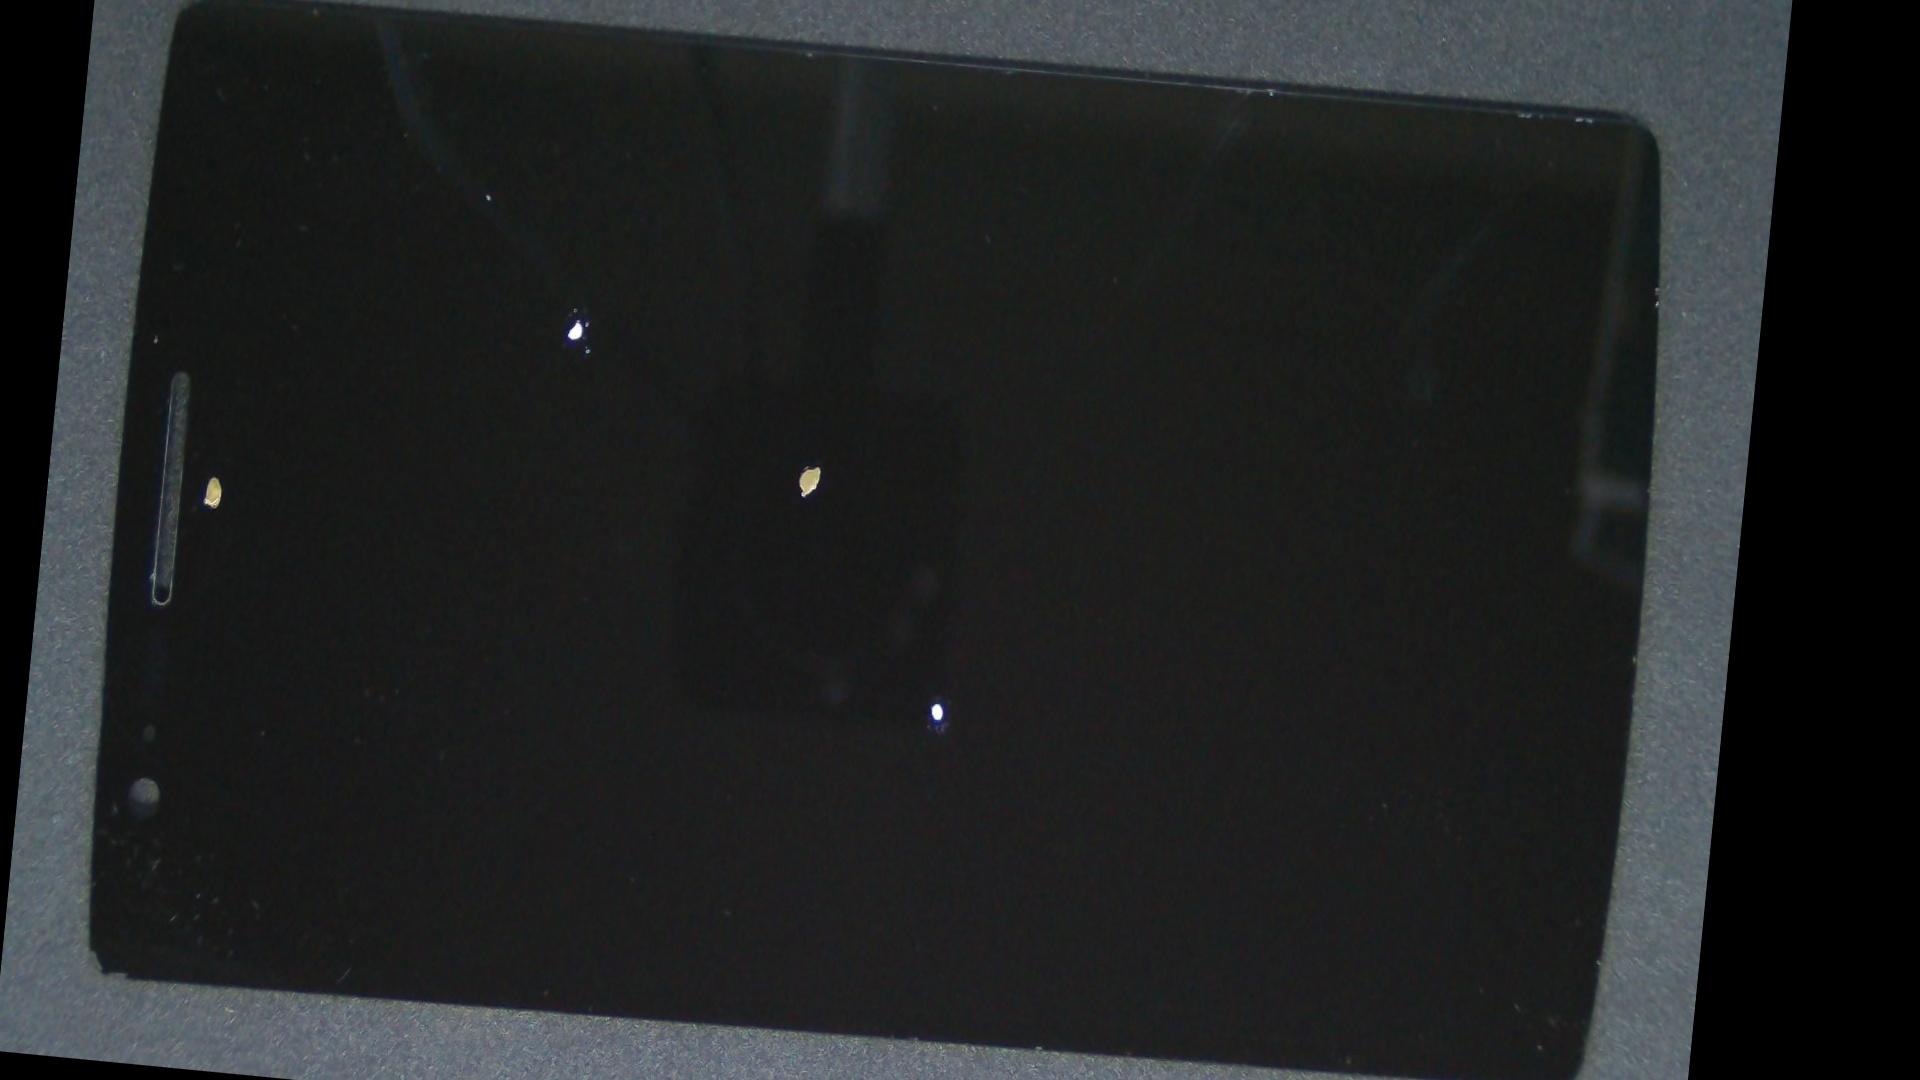oil: (448, 265, 1425, 1080), (409, 145, 1218, 777), (301, 74, 851, 560), (105, 153, 335, 799)
